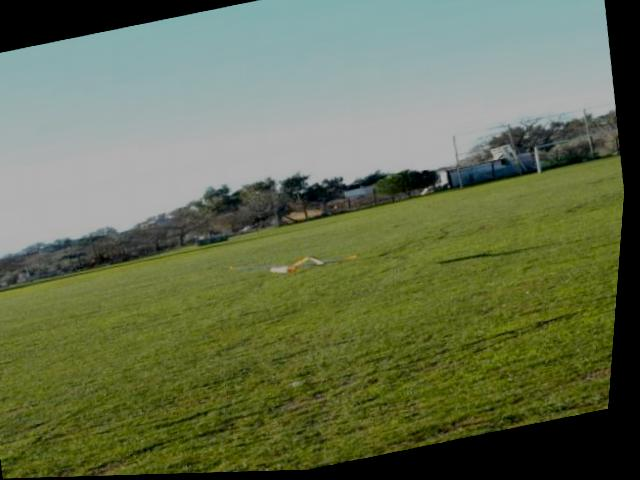iha: (248, 245, 352, 289)
